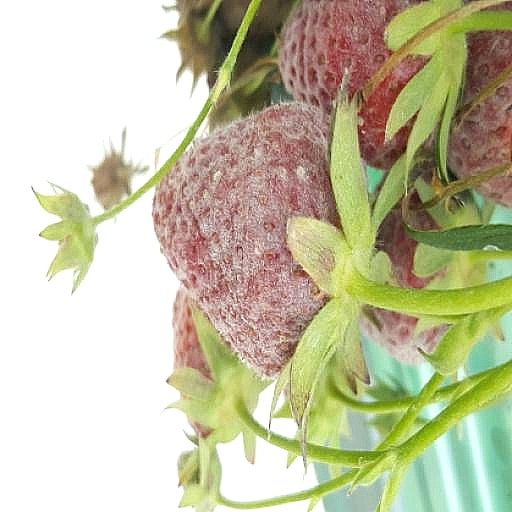Powdery Mildew Fruit: (142, 100, 363, 381), (48, 0, 236, 170), (24, 167, 152, 366)
